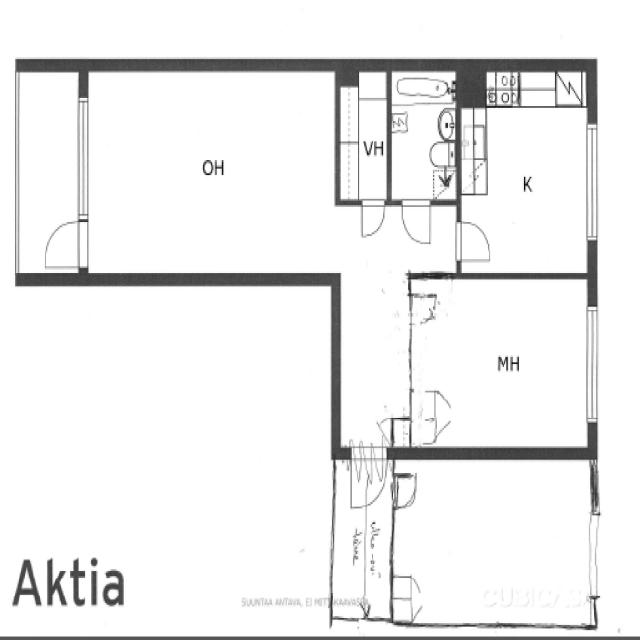door: (35, 215, 90, 268), (350, 442, 387, 514), (456, 218, 494, 265), (400, 197, 434, 248), (358, 198, 387, 240)
window: (585, 454, 605, 607), (582, 118, 604, 248), (583, 301, 603, 428), (73, 95, 92, 218), (587, 503, 599, 602)
zone: (85, 70, 344, 278), (389, 454, 599, 630), (407, 276, 598, 454), (458, 66, 594, 278), (331, 451, 393, 623), (390, 71, 458, 201), (336, 70, 389, 204)
